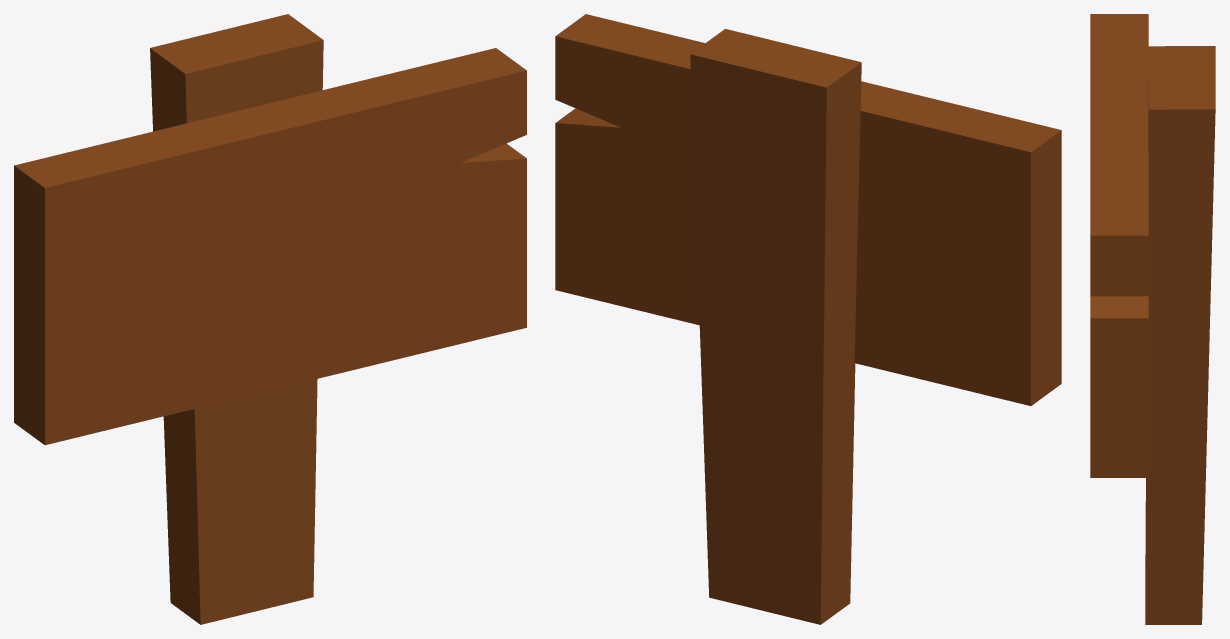
File: Sign.fbx
3 views of the same model, side by side, from view 1: azimuth 30°, elevation 25°; view 2: azimuth 150°, elevation 25°; view 3: azimuth 270°, elevation 25° (orthographic). The views are drawn at different scales.
Parts seen in each view (by area): view 1: Sign; view 2: Sign; view 3: Sign.
Boxes of the visible parts, x1,y1,x2,y2 form: Sign: (14, 14, 526, 624); Sign: (555, 14, 1061, 624); Sign: (1090, 14, 1215, 624).
Bounding box in the file's own units: 0.8439 × 0.9256 × 0.2015.
